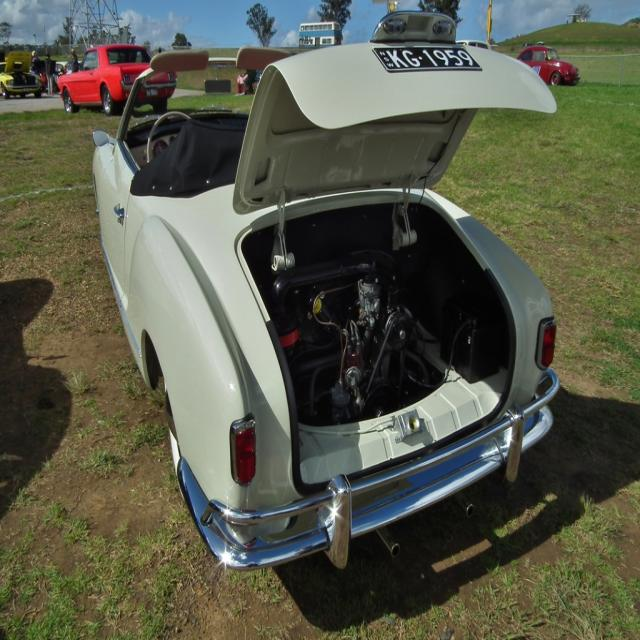car: (85, 10, 558, 584)
